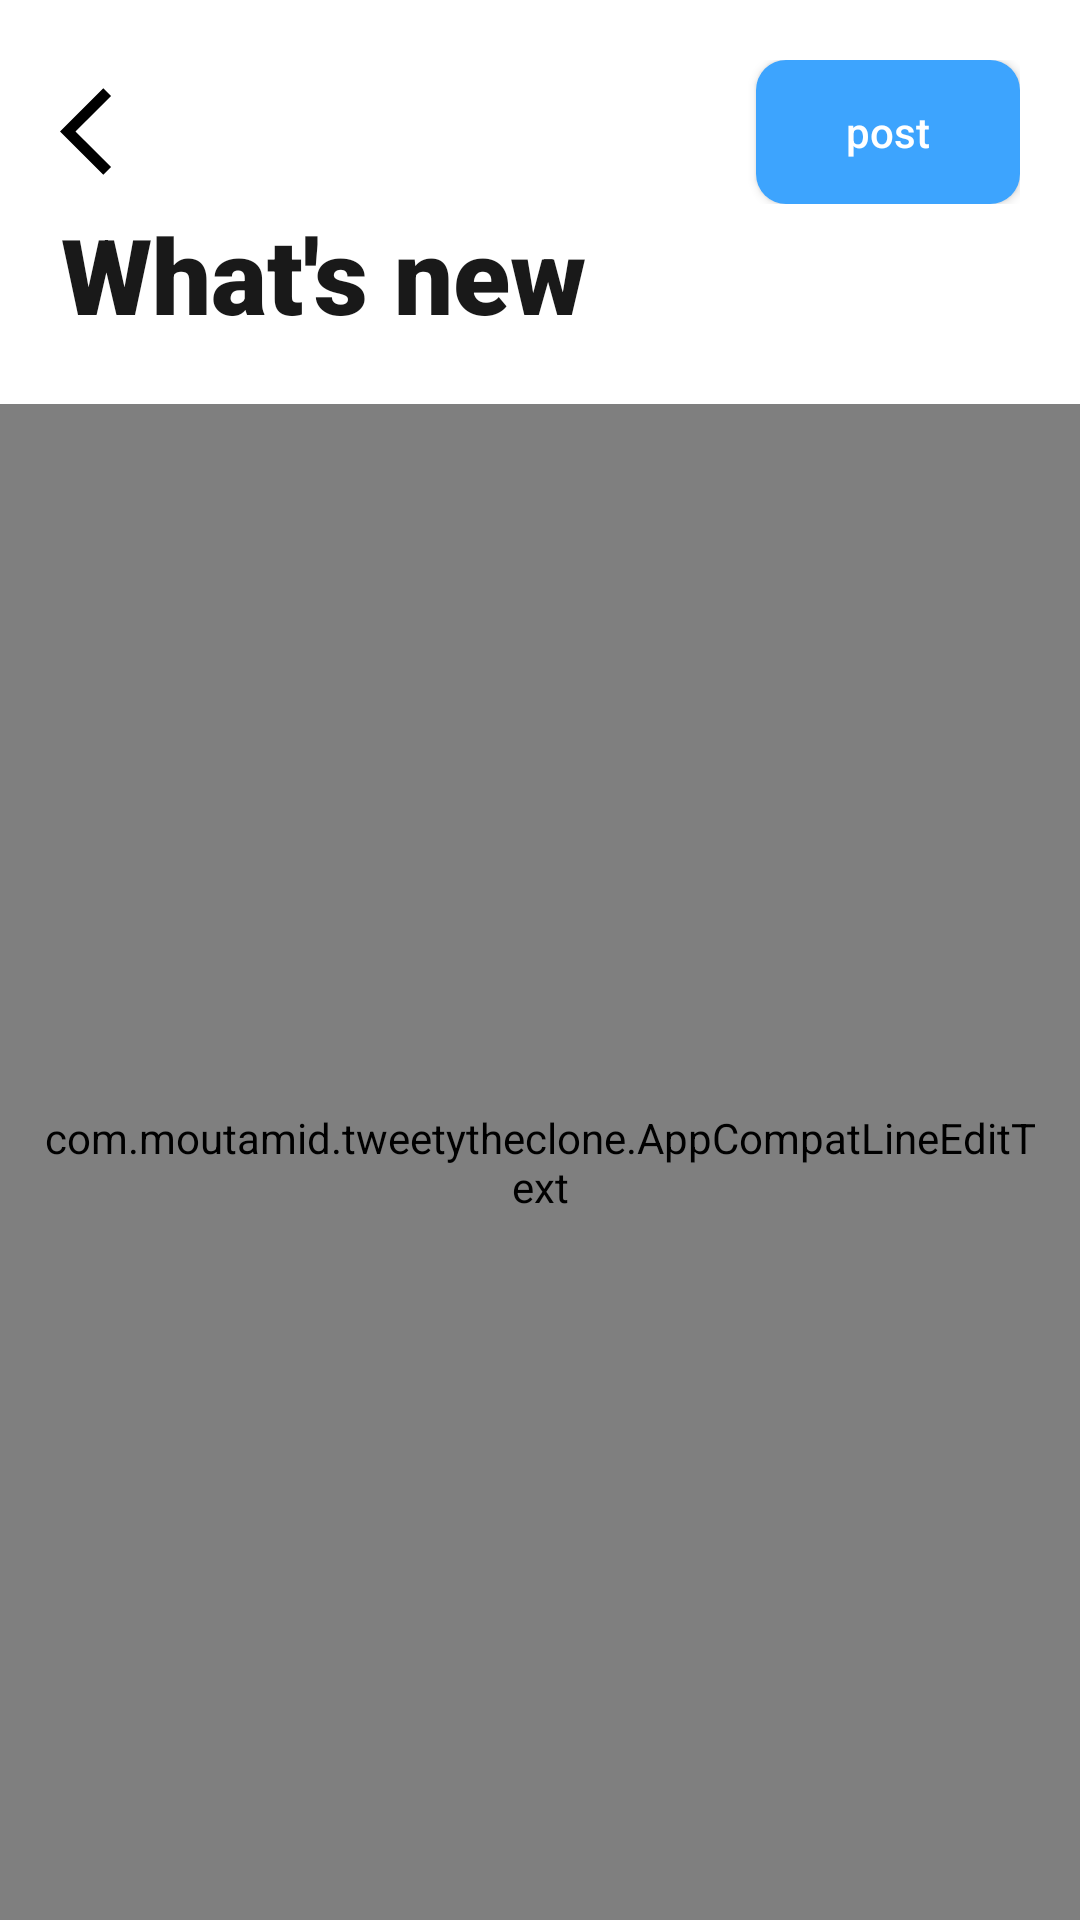

Locate icon controls on the screen. Image size 1080w x 1920h, boxes as (x1, y1, x2, y2).
arrow back: (60, 88, 111, 175)
